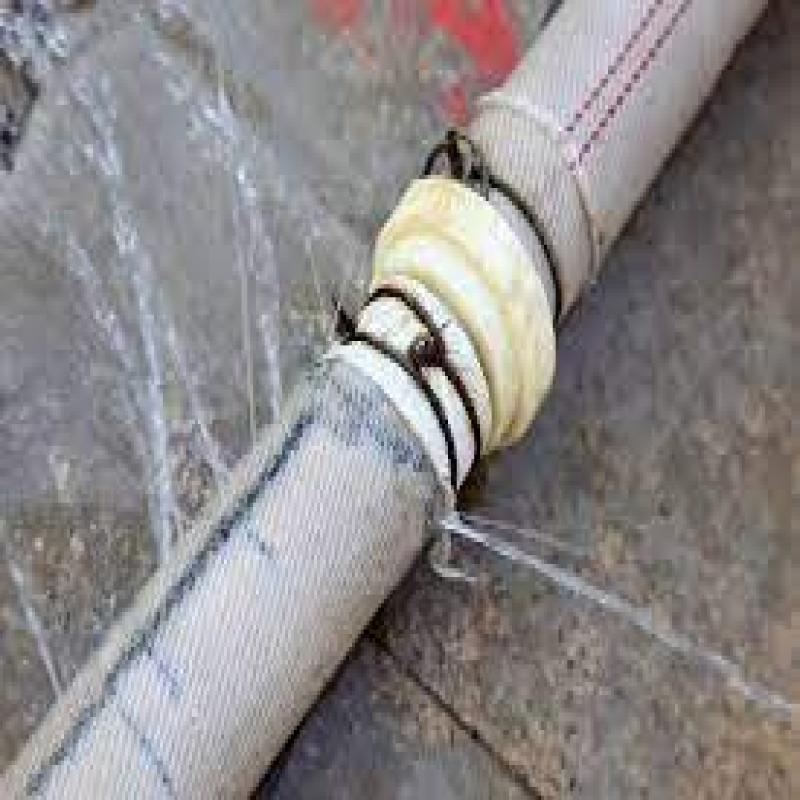Fracture: (108, 387, 526, 704)
